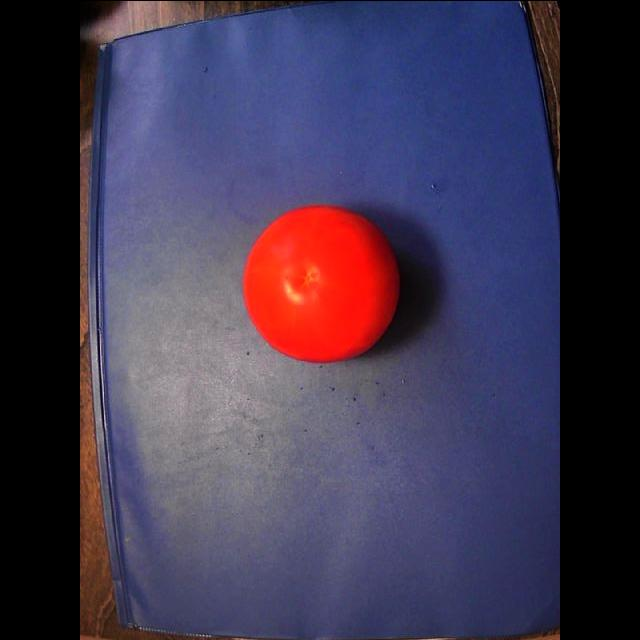tomate: (244, 205, 400, 361)
